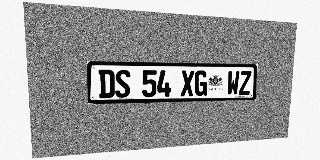4: (157, 70, 171, 97)
5: (142, 70, 157, 97)
D: (98, 70, 115, 98)
G: (194, 70, 208, 96)
S: (115, 70, 130, 98)
W: (227, 71, 240, 95)
X: (181, 70, 194, 96)
Z: (239, 71, 252, 95)
